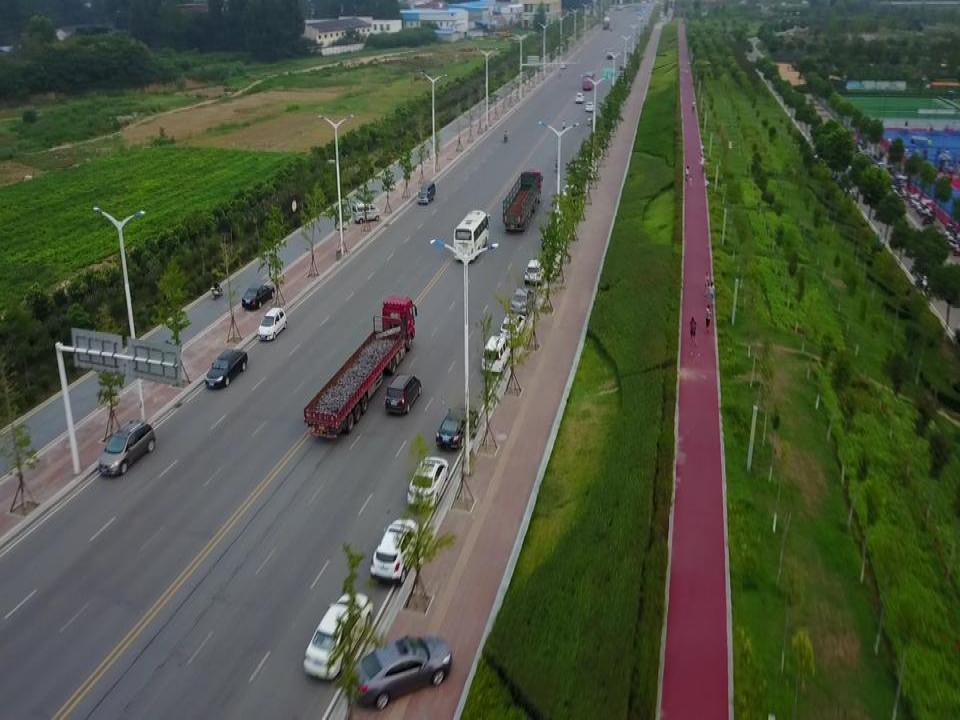bus: (453, 210, 491, 262), (580, 71, 596, 89)
car: (350, 634, 452, 710), (303, 593, 374, 680), (369, 518, 420, 587), (97, 420, 154, 476), (407, 456, 448, 509), (436, 401, 477, 448), (204, 348, 247, 389), (384, 375, 422, 412), (257, 306, 287, 342), (241, 284, 274, 311), (498, 312, 527, 341), (524, 257, 549, 287), (510, 289, 535, 316), (575, 92, 585, 104), (584, 101, 594, 112), (605, 48, 613, 60)
truck: (303, 294, 417, 437), (502, 169, 543, 231)
van: (481, 334, 510, 374), (351, 201, 381, 224), (418, 179, 436, 204)
